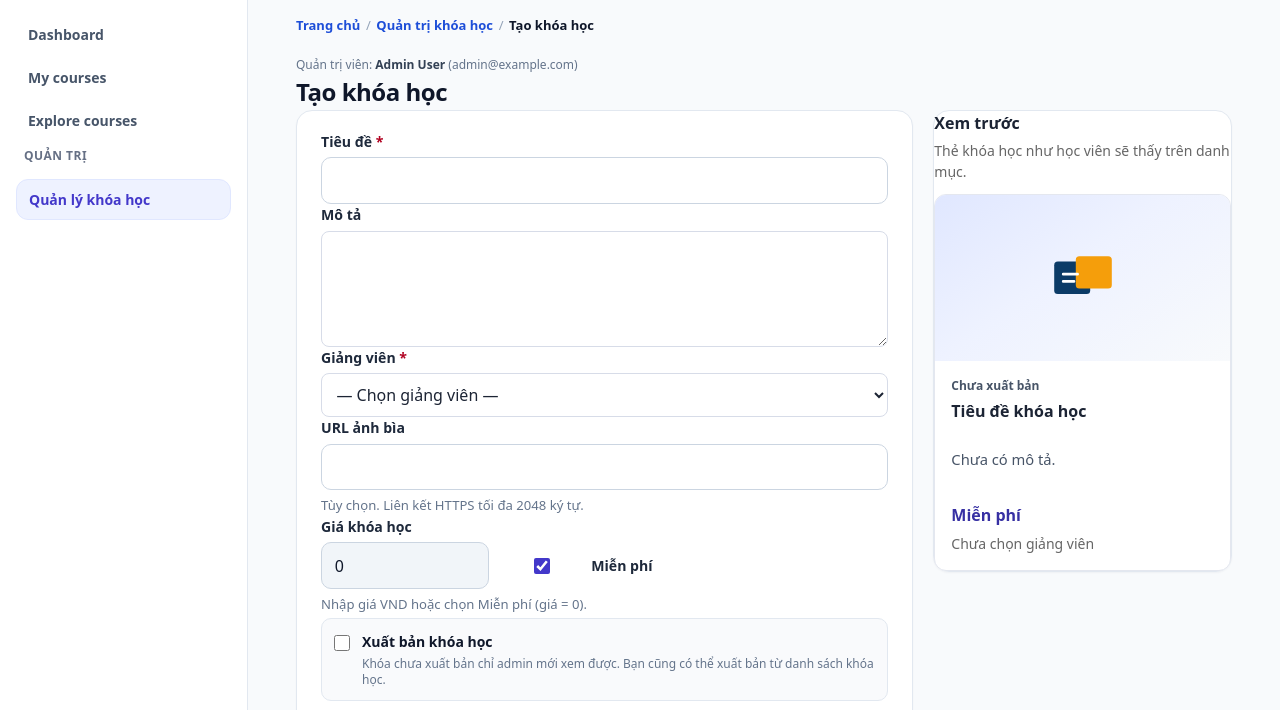
AdminCourseFormPage create › keeps form data when the API fails
Step 1. Type "Khóa mới" into the field labelled "Tiêu đề *" → (605, 181), box [321,158,888,204]
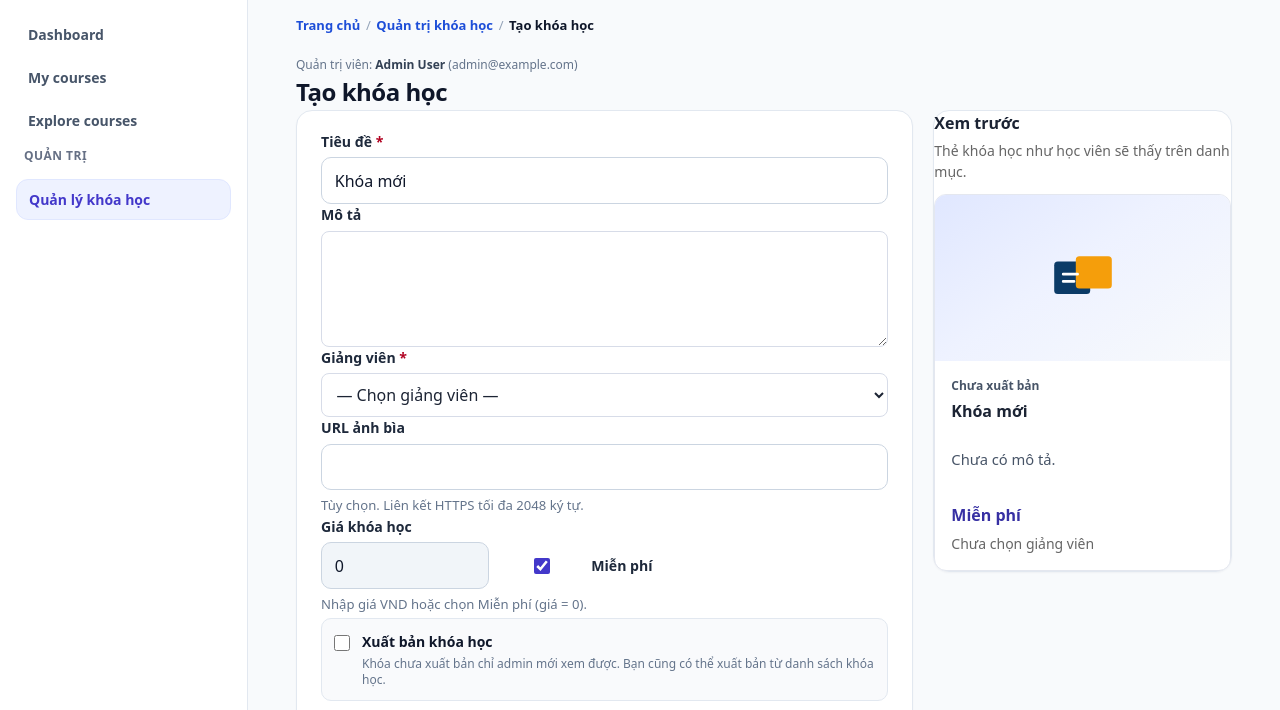
Step 2. Select "Giảng viên A (teacher@example.com)" in the dropdown labelled "Giảng viên *" → (605, 395), box [321,373,888,417]
(page scrolled)
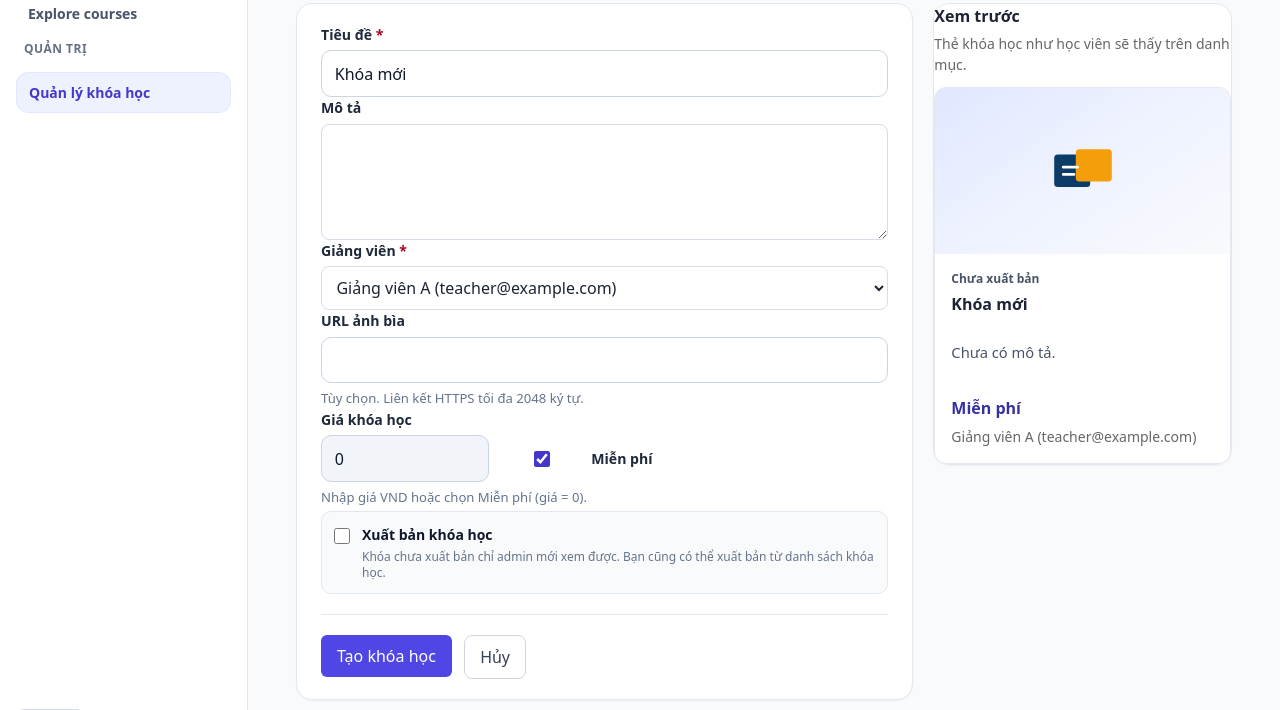
Step 3. Click the button "Tạo khóa học" → click(386, 656), box [321,635,452,677]
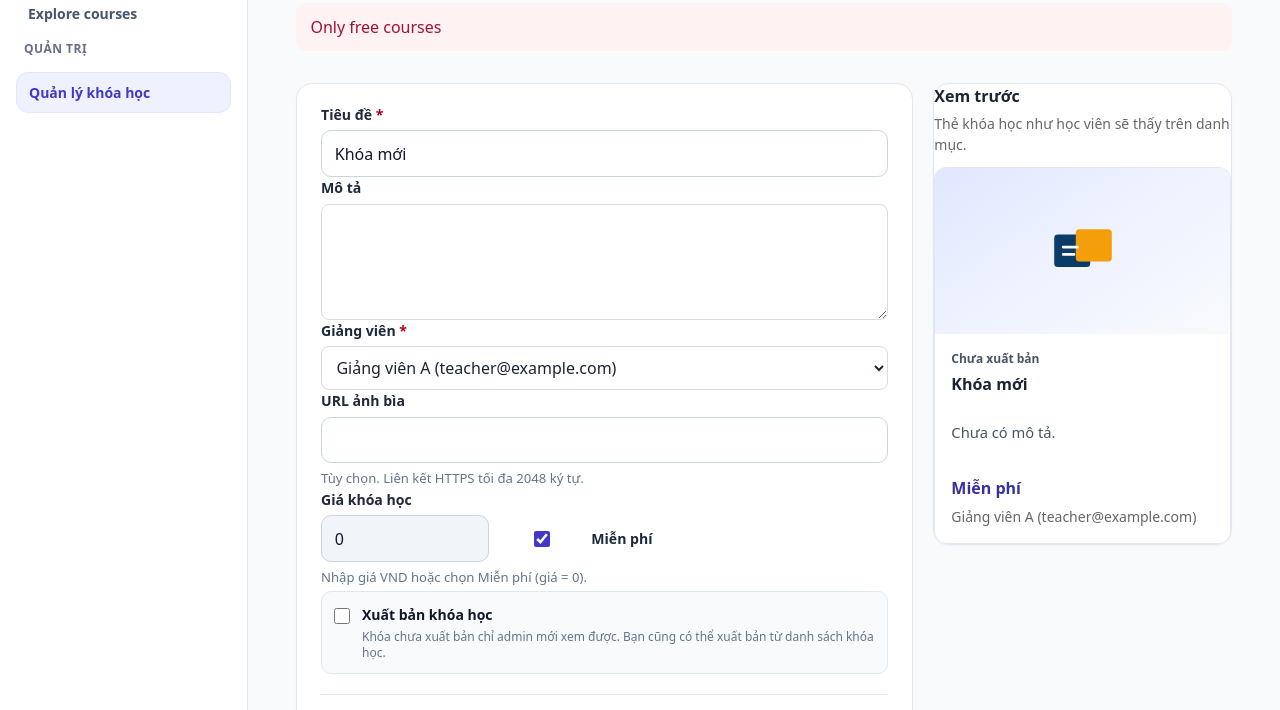
Expected: the message reads "Only free courses", [310,16,441,38]
